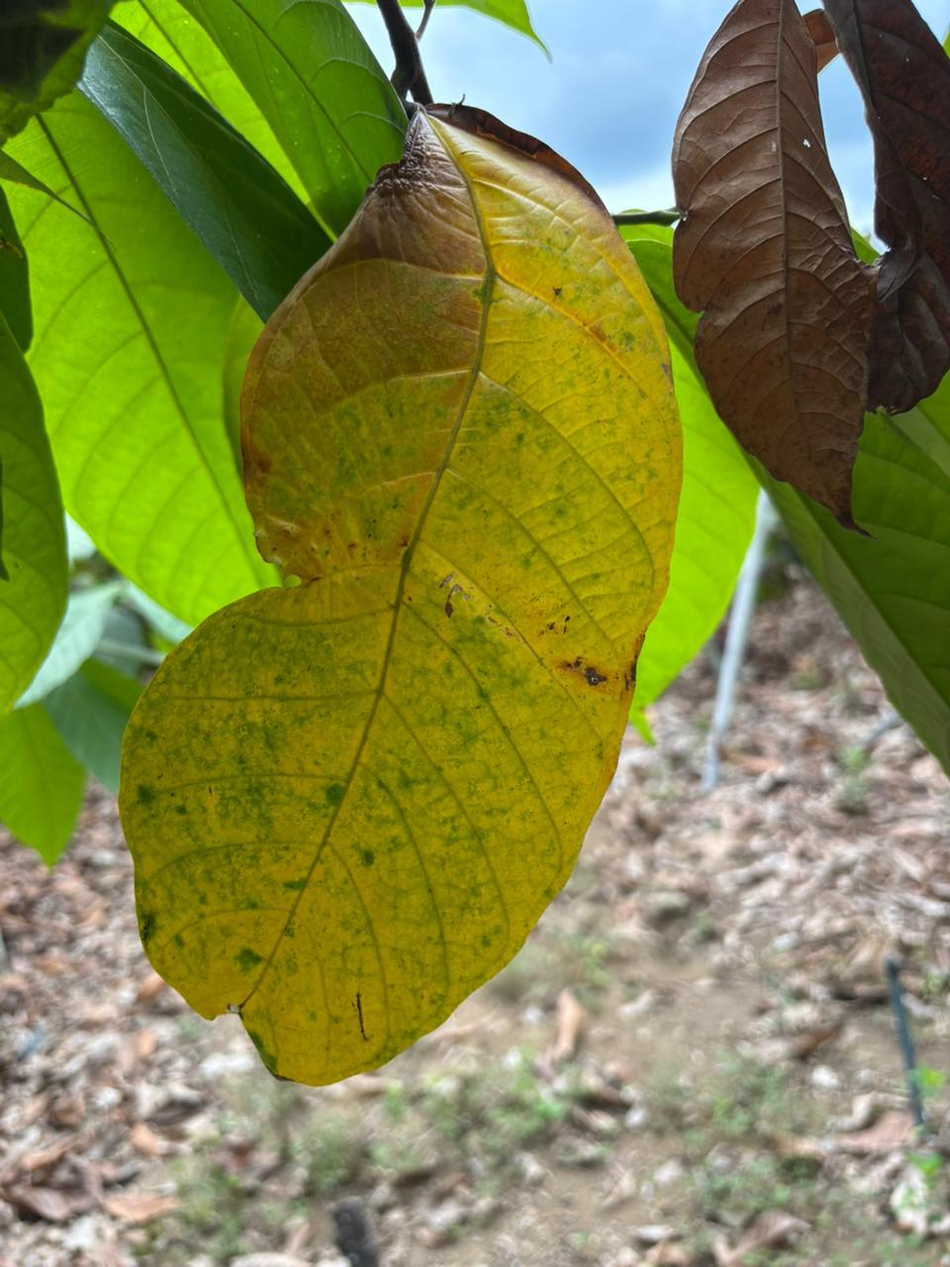deficienciia_fosforo: (122, 108, 681, 1084)
